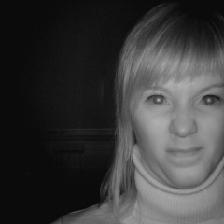sad: (98, 6, 224, 206)
